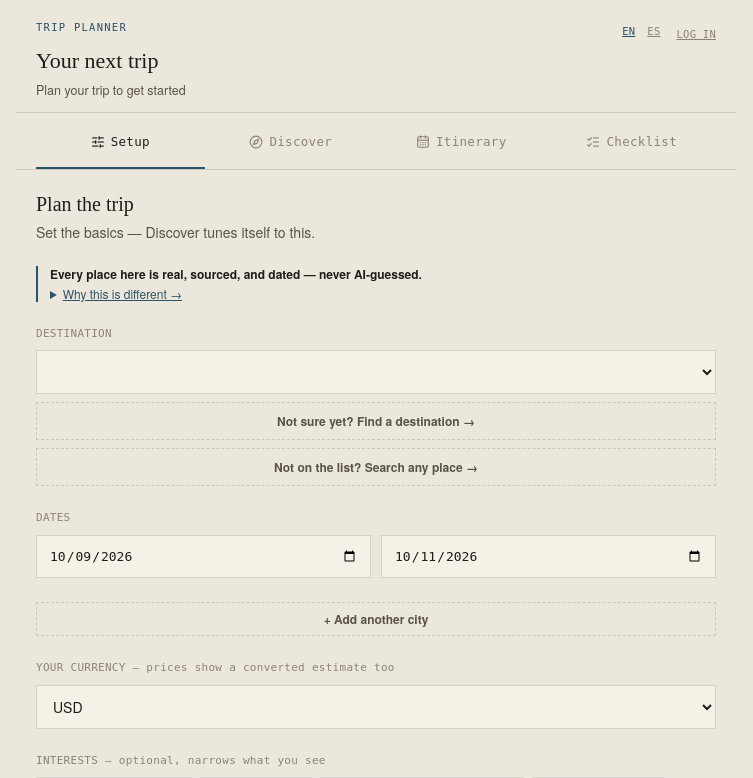
it: language toggle › switches real UI chrome text to Spanish and persists the choice, without touching untranslated content
expect the heading "Your next trip" is shown: met, box top-left (36, 48), bottom-right (158, 73)
Step 1. Click the button "ES" → point(654, 32), box top-left (643, 20), bottom-right (664, 44)
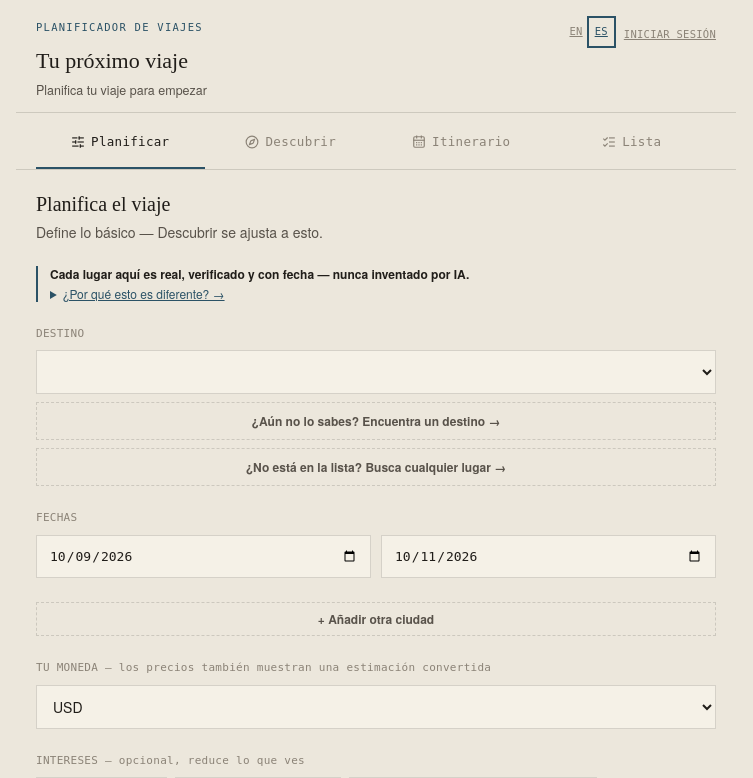
expect the heading "Tu próximo viaje" is shown: met, box top-left (36, 48), bottom-right (188, 73)
